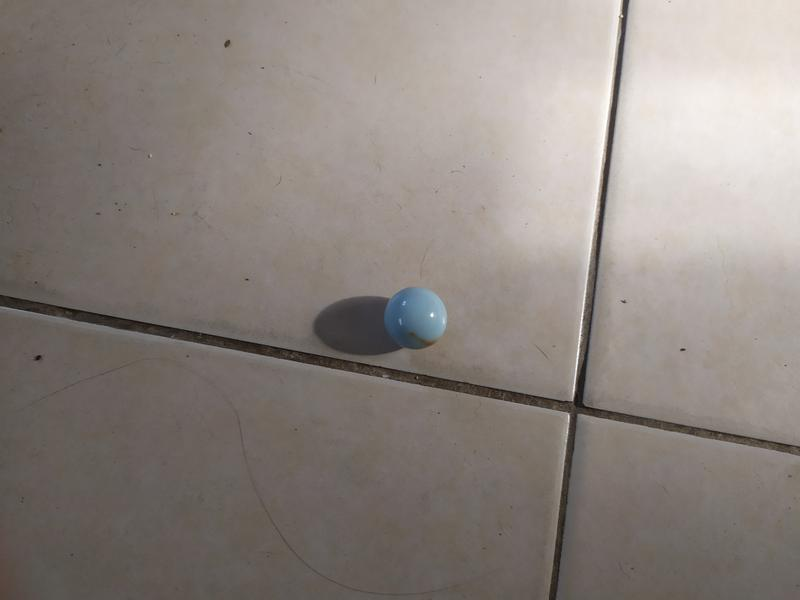Warning: (378, 283, 451, 354)
